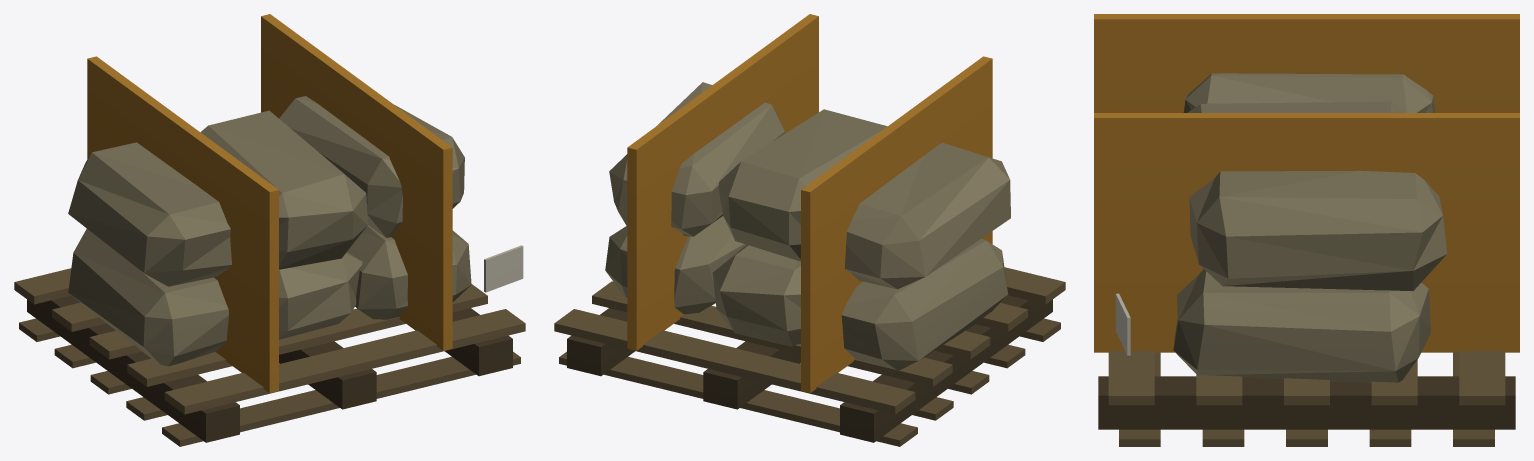
The model's file is pallet_stack.glb.
3 renders of one model, left to right at view 1: azimuth 30°, elevation 25°; view 2: azimuth 150°, elevation 25°; view 3: azimuth 270°, elevation 25°, orthographic. The views are drawn at different scales.
Parts seen in each view (by area): view 1: pallet_stack; view 2: pallet_stack; view 3: pallet_stack.
Boxes of the visible parts, x1=… form: pallet_stack: x1=14, y1=14, x2=525, y2=446; pallet_stack: x1=554, y1=14, x2=1065, y2=446; pallet_stack: x1=1094, y1=14, x2=1519, y2=446.
Bounding box in the file's own units: 1.12 × 0.75 × 1.02.
